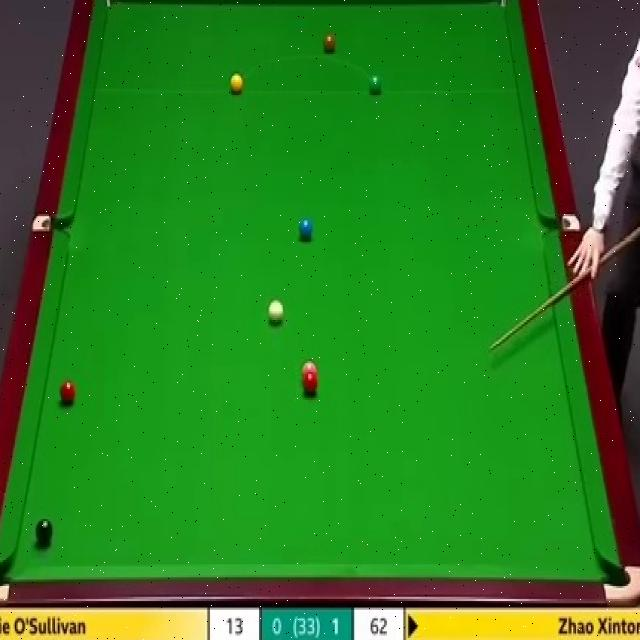black-ball: (34, 519, 54, 545)
blue-ball: (298, 216, 314, 238)
brown-ball: (322, 32, 336, 56)
green-ball: (367, 72, 382, 95)
pink-ball: (300, 361, 318, 372)
red-ball: (58, 379, 76, 407), (302, 374, 317, 397)
white-ball: (267, 300, 284, 327)
yellow-ball: (230, 74, 243, 95)
